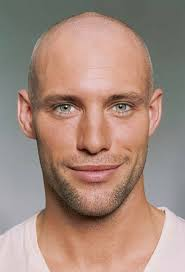face: (13, 10, 169, 220)
